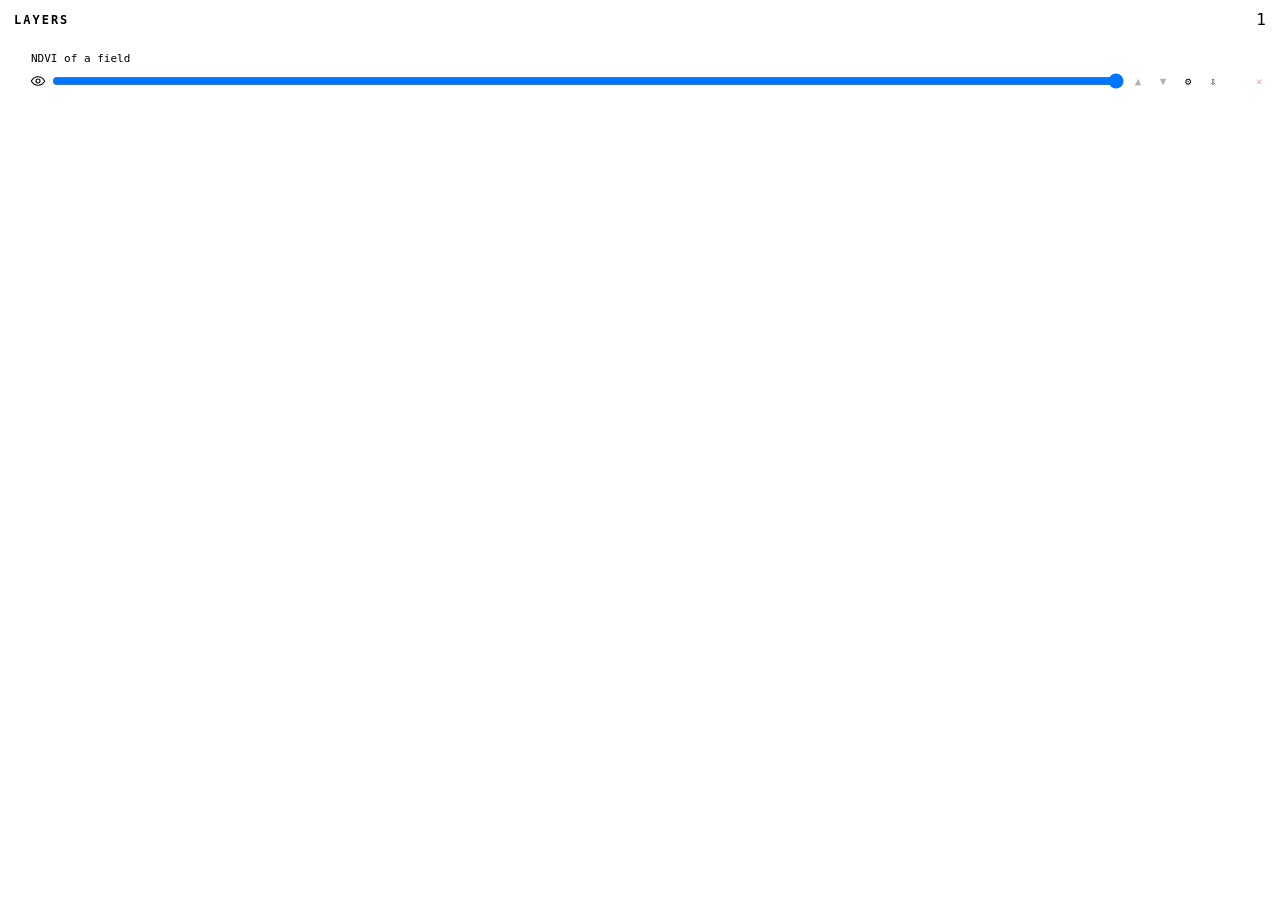
the panel from a result › opens on the order of the job: its steps locked, nothing checked in the output, its scenes and area fixed
The image size is (1280, 900).
Click the button "⚙".
click(1188, 81)  # box [1177,72,1199,90]
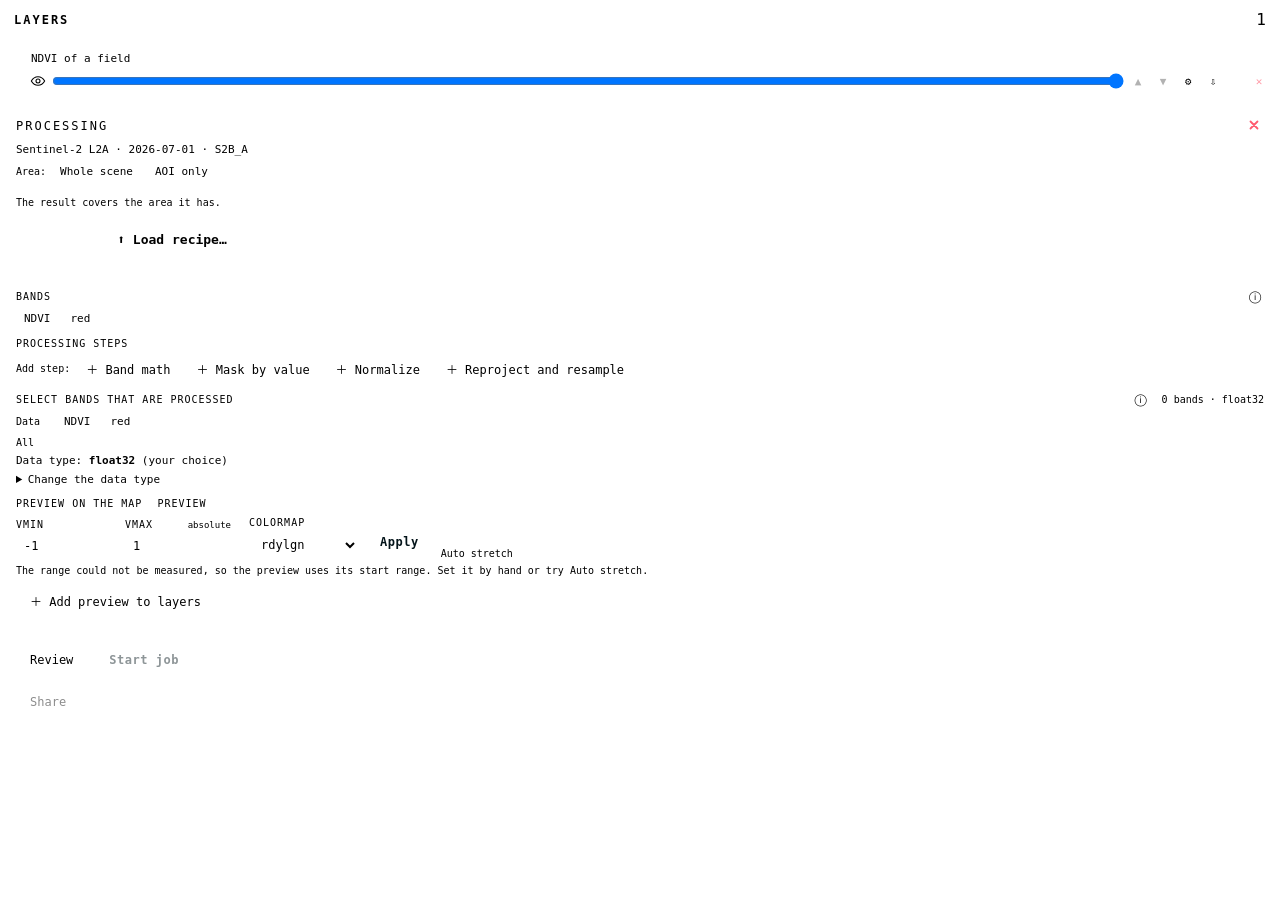
Check: the element named "Selection" shows "S2B_A", box [16,143,248,156]
